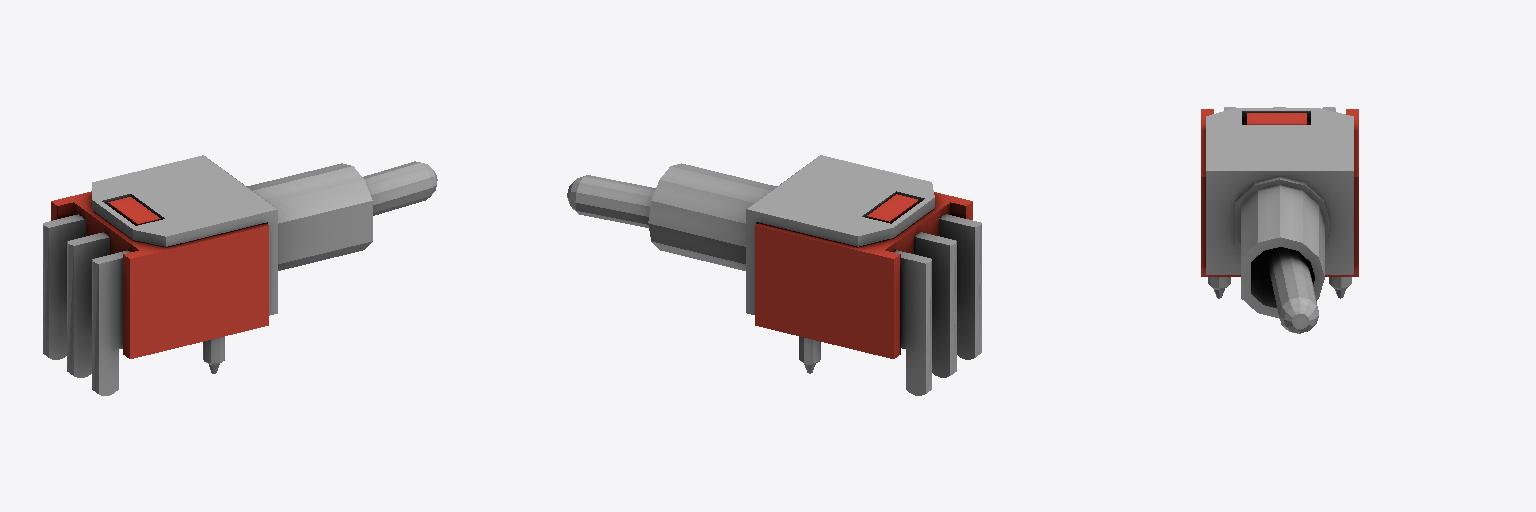
3 renders of one model, left to right at view 1: azimuth 30°, elevation 25°; view 2: azimuth 150°, elevation 25°; view 3: azimuth 270°, elevation 25°, orthographic.
Parts seen in each view (by area): view 1: Cube.020_Cube.055; view 2: Cube.020_Cube.055; view 3: Cube.020_Cube.055.
Boxes of the visible parts, <box> form: Cube.020_Cube.055: <box>43,155,437,395</box>; Cube.020_Cube.055: <box>567,155,981,395</box>; Cube.020_Cube.055: <box>1201,107,1358,333</box>.
Bounding box in the file's own units: 0.1034 × 0.0409 × 0.0378.
1 materials, 1 textured.